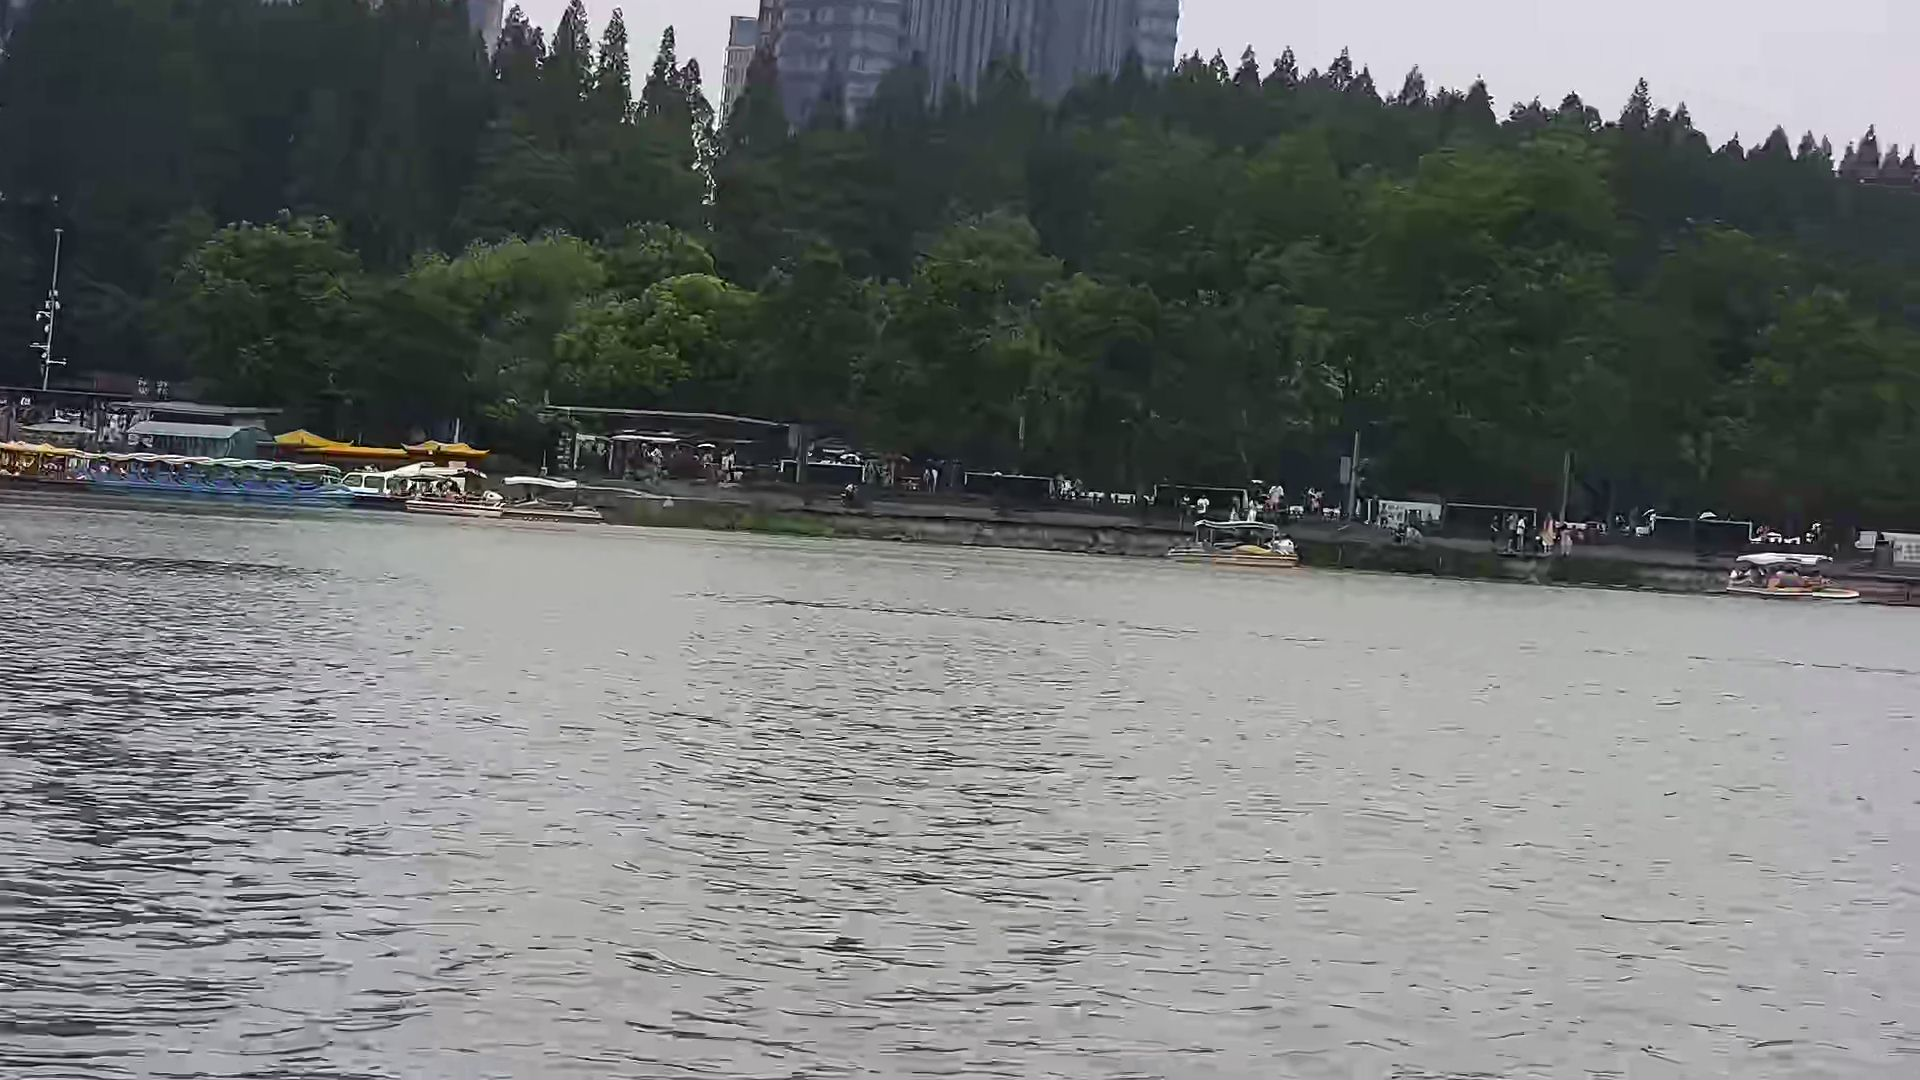boat: (1724, 549, 1859, 611), (1174, 512, 1290, 567)
